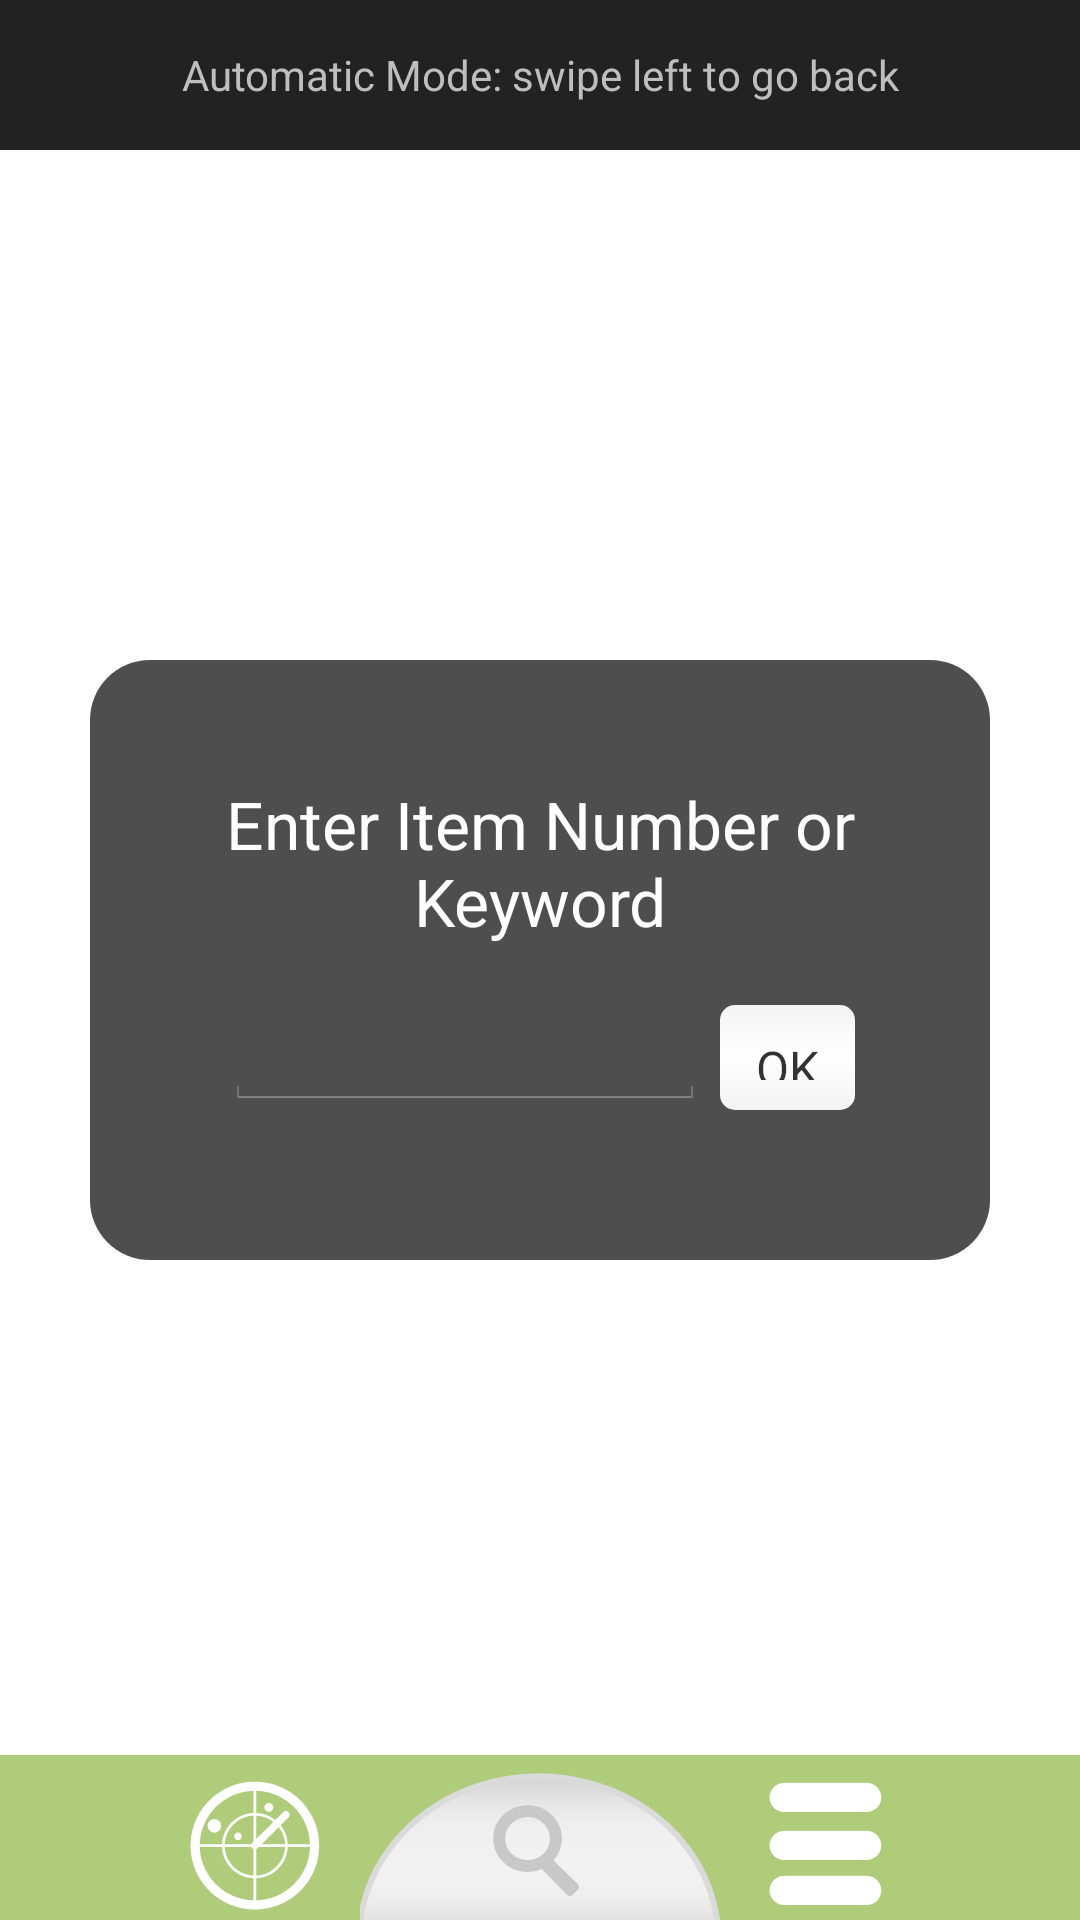

Icons on this 1080 x 1920 Android screen, each with its box as (x1, y1, x2, y2):
search off: (360, 1773, 720, 1920)
